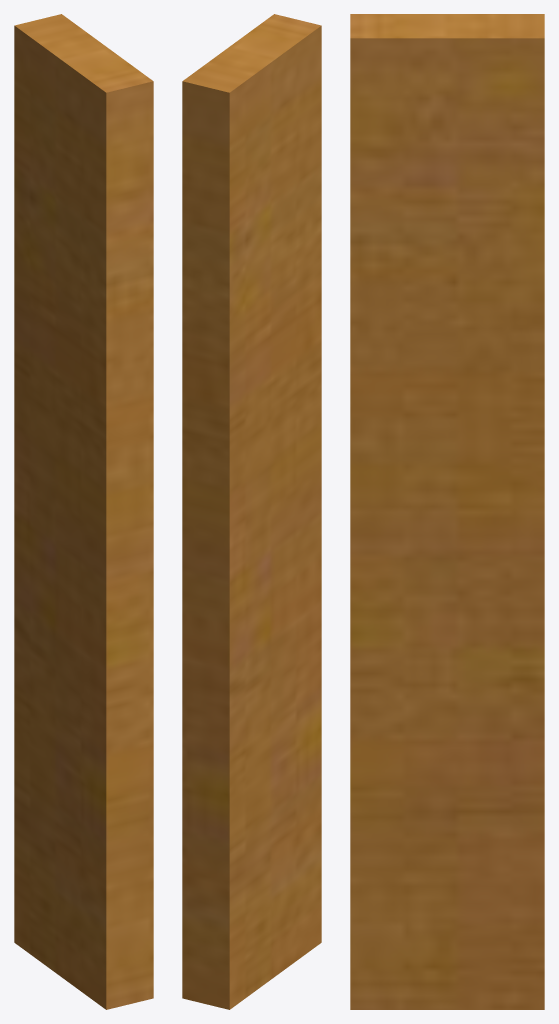
File: original-19.obj
The picture shows the model from 3 angles, left to right: view 1: azimuth 30°, elevation 25°; view 2: azimuth 150°, elevation 25°; view 3: azimuth 270°, elevation 25°; orthographic projection. The views are drawn at different scales.
Parts seen in each view (by area): view 1: small_leg3/small_leg/mesh7/mesh7-geometry#mesh7-geometry; view 2: small_leg3/small_leg/mesh7/mesh7-geometry#mesh7-geometry; view 3: small_leg3/small_leg/mesh7/mesh7-geometry#mesh7-geometry.
Part boxes in pixels (x1,y1,x2,y2): small_leg3/small_leg/mesh7/mesh7-geometry#mesh7-geometry: (14,14,153,1009); small_leg3/small_leg/mesh7/mesh7-geometry#mesh7-geometry: (182,14,321,1009); small_leg3/small_leg/mesh7/mesh7-geometry#mesh7-geometry: (350,14,544,1009).
Size of the model in its own units: 0.0467 by 0.8666 by 0.1574.
